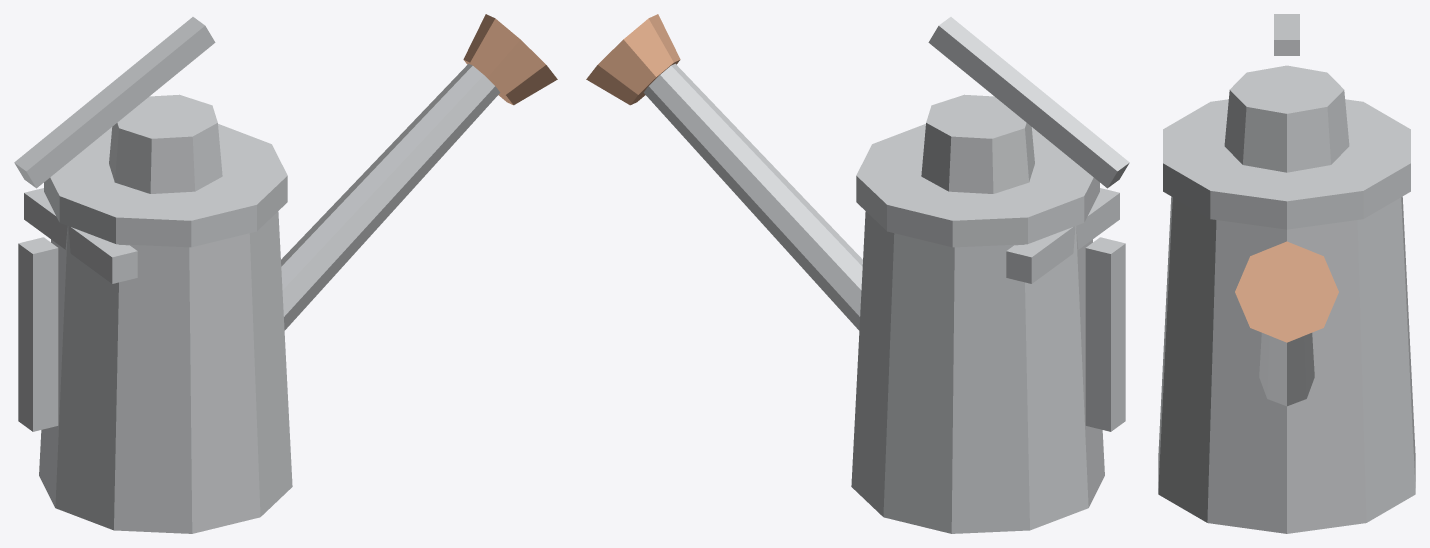
The model's file is botanical-glasshouse-and-palm-house-botanical-glasshou-d113bf9a__38570.glb.
3 renders of one model, left to right at view 1: azimuth 30°, elevation 25°; view 2: azimuth 150°, elevation 25°; view 3: azimuth 270°, elevation 25°, orthographic. The views are drawn at different scales.
Visible parts, largest first — view 1: botanical-glasshouse-and-palm-house-watering-can; view 2: botanical-glasshouse-and-palm-house-watering-can; view 3: botanical-glasshouse-and-palm-house-watering-can.
Boxes of the visible parts, x1=… form: botanical-glasshouse-and-palm-house-watering-can: x1=14, y1=14, x2=557, y2=533; botanical-glasshouse-and-palm-house-watering-can: x1=586, y1=14, x2=1129, y2=533; botanical-glasshouse-and-palm-house-watering-can: x1=1158, y1=14, x2=1415, y2=533.
Size of the model in its own units: 0.6216 by 0.5085 by 0.2473.
